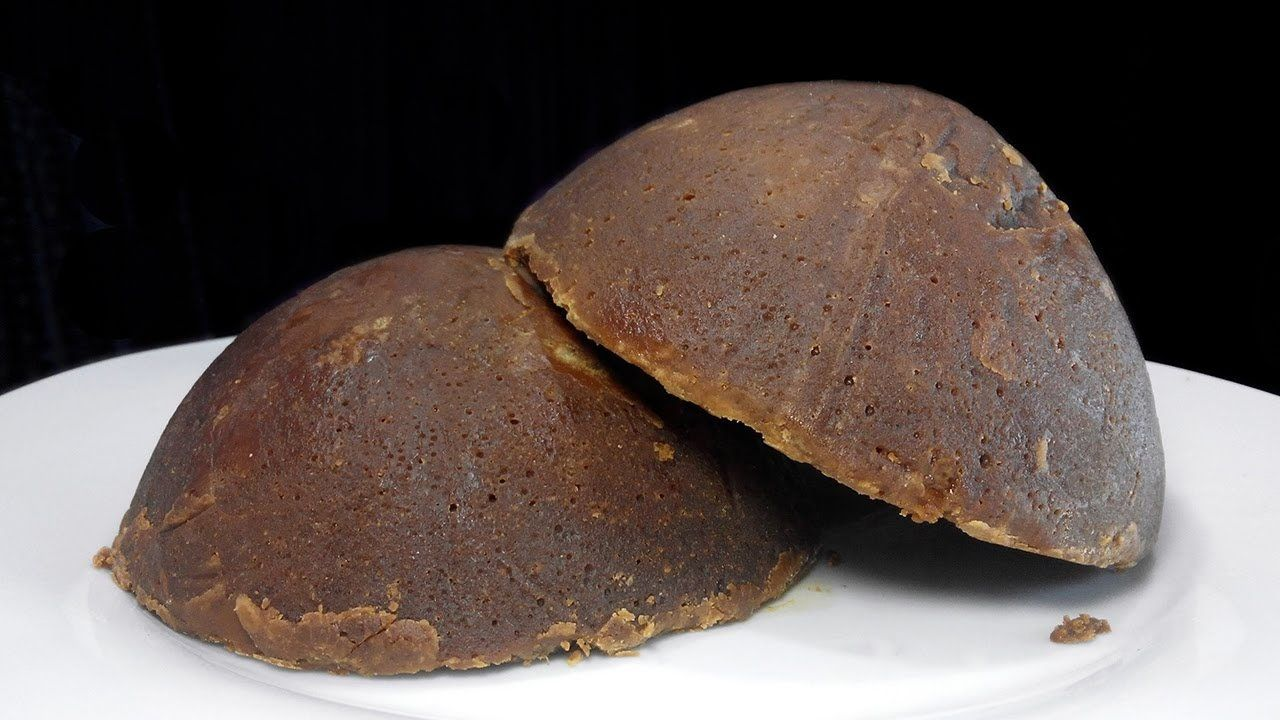hakuru: (504, 70, 1168, 574), (96, 234, 827, 681)
